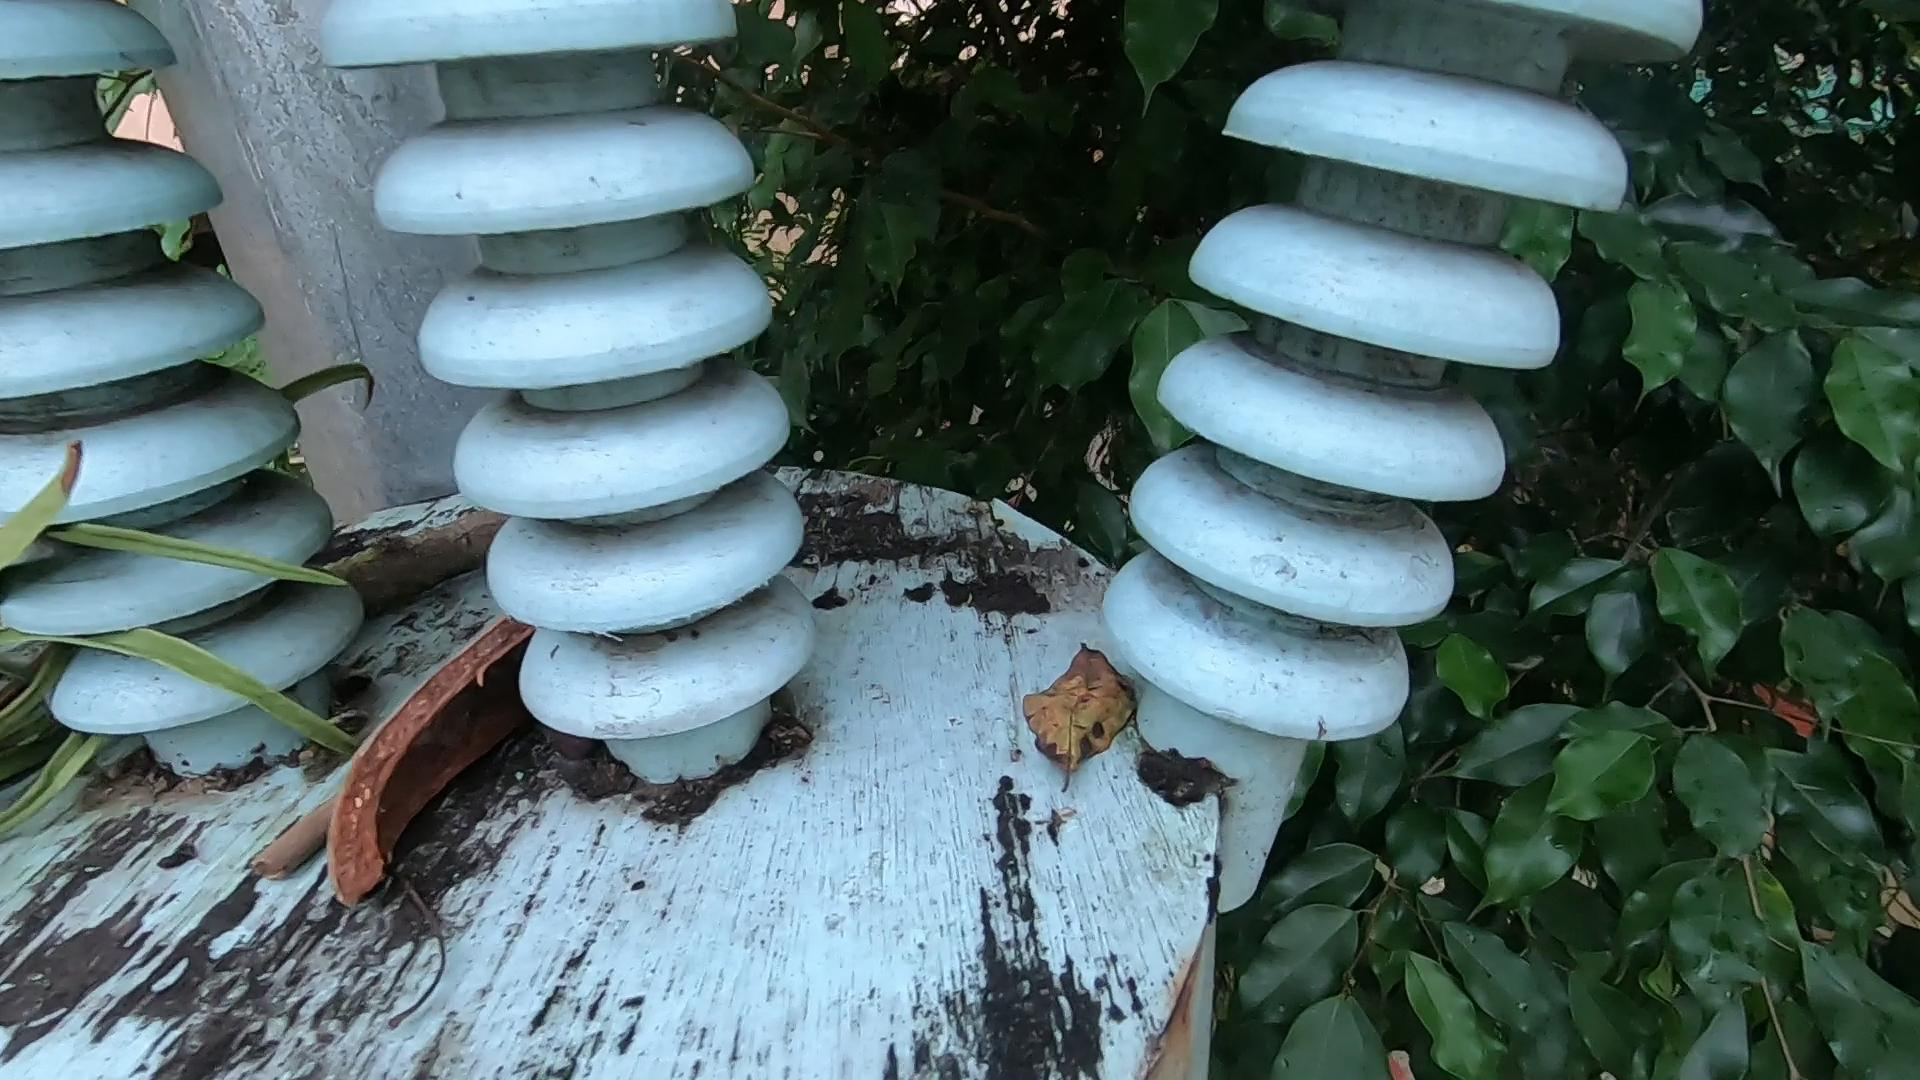branch with leaves: (1, 480, 655, 786)
leaf: (993, 585, 1164, 823)
mahogany fruit: (328, 560, 641, 996)
tree branch: (239, 686, 585, 961)
